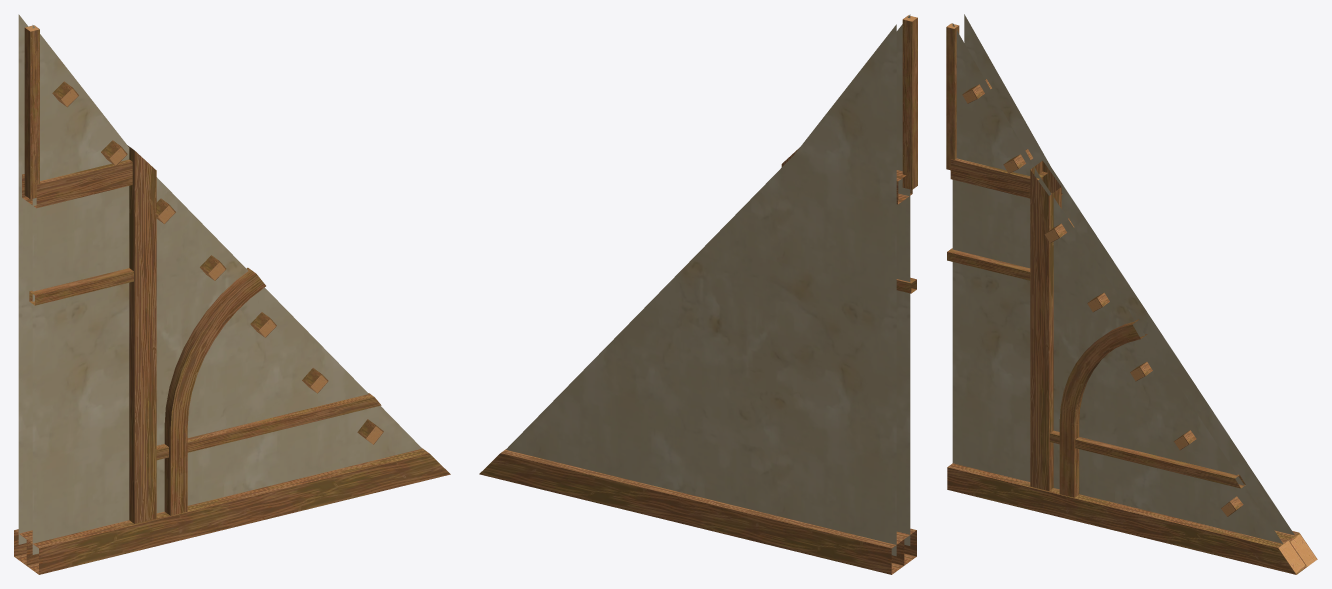
The model's file is roof_front_brick8_half_r.glb.
3 views of the same model, side by side, from view 1: azimuth 30°, elevation 25°; view 2: azimuth 150°, elevation 25°; view 3: azimuth 330°, elevation 25° (orthographic). The views are drawn at different scales.
Bounding box in the file's own units: 4.35 × 5.45 × 0.4896.
Materials: 2 (2 with a texture image).
